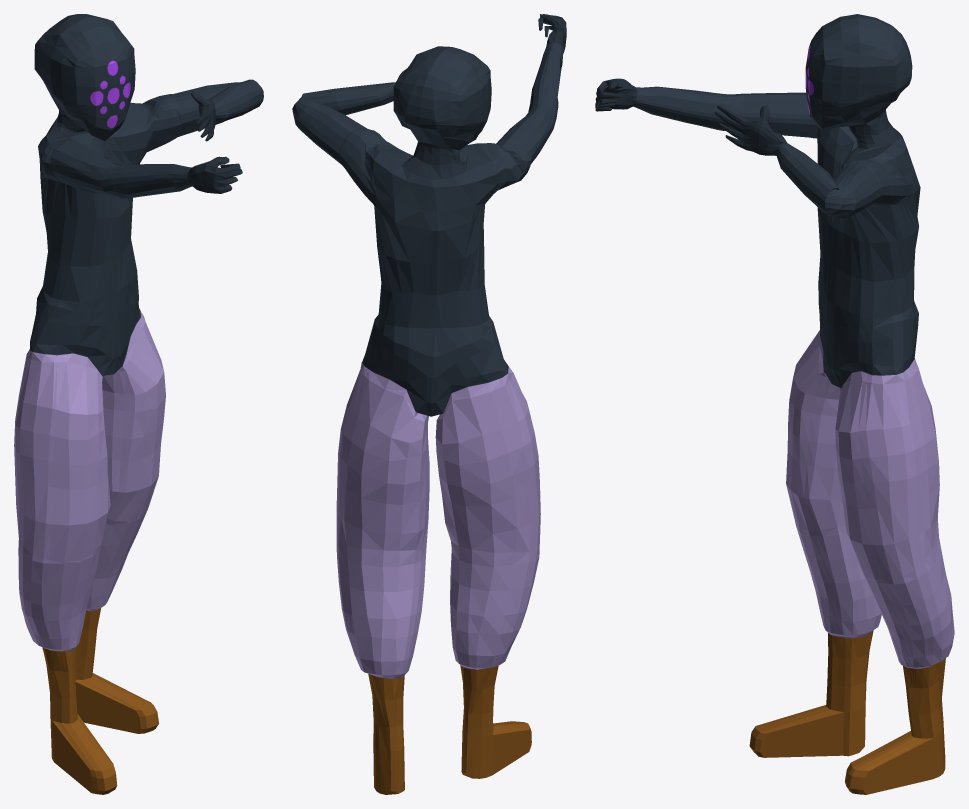
Rendered from Oracle_Attack_000028.obj.
3 views of the same model, side by side, from view 1: azimuth 30°, elevation 25°; view 2: azimuth 150°, elevation 25°; view 3: azimuth 270°, elevation 25° (orthographic). The views are drawn at different scales.
Parts seen in each view (by area): view 1: Cube; view 2: Cube; view 3: Cube.
Part boxes in pixels (bbox=[...]): Cube: bbox=[14, 14, 263, 794]; Cube: bbox=[292, 14, 566, 794]; Cube: bbox=[595, 14, 954, 794].
Bounding box in the file's own units: 1.36 × 3.94 × 1.71.
